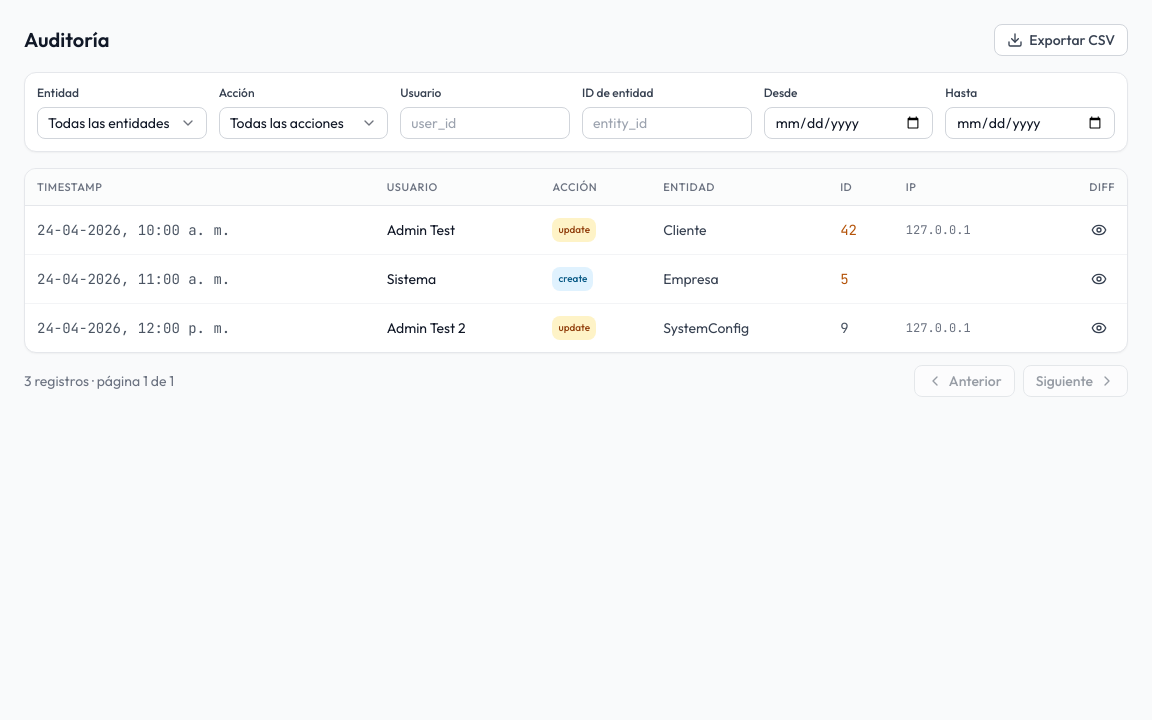
AdminAuditoria › opens diff modal with JSON when Ver diff clicked
This screenshot has width=1152, height=720.
Click the button named "Ver diff" in the row of "24-04-2026, 10:00 a. m.": (1099, 230) left=1083, top=214, right=1115, bottom=246
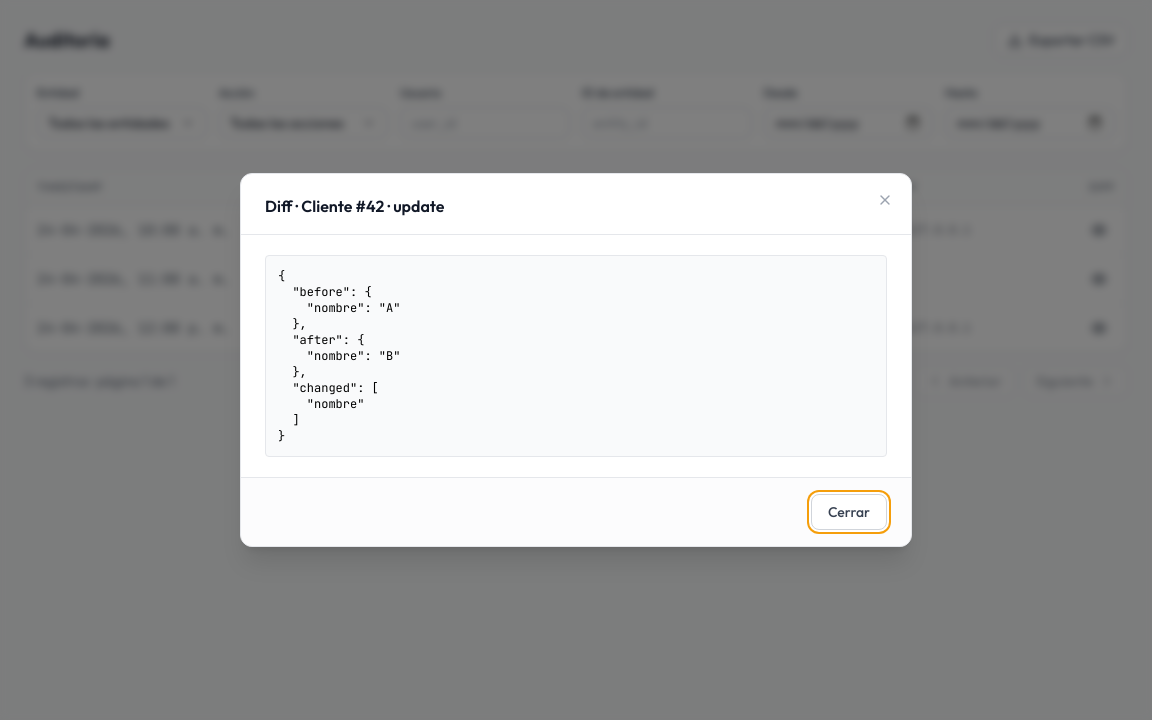
expect the text "\"changed\"" is shown: met, box left=278, top=268, right=400, bottom=444
expect the heading "Diff · Cliente #42 · update" is shown: met, box left=265, top=196, right=444, bottom=216
